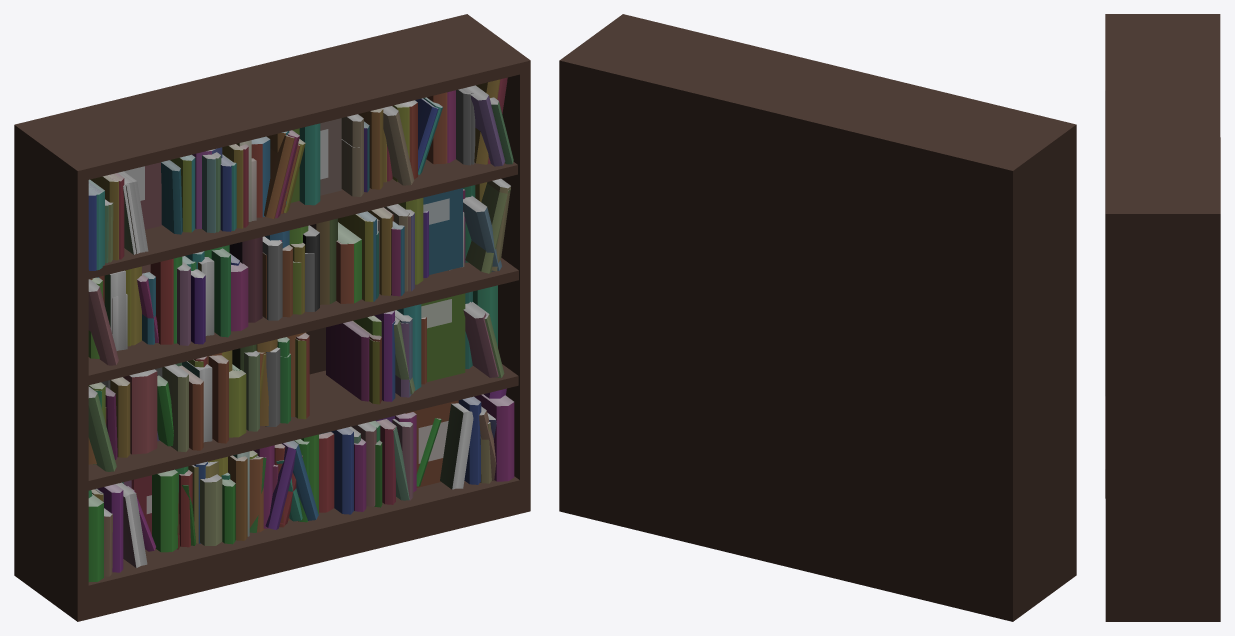
The model's file is book_case_flat_shading.glb.
The picture shows the model from 3 angles, left to right: view 1: azimuth 30°, elevation 25°; view 2: azimuth 150°, elevation 25°; view 3: azimuth 270°, elevation 25°; orthographic projection. The views are drawn at different scales.
Parts seen in each view (by area): view 1: alt35, alt37, alt38, alt36; view 2: alt35, alt37, alt38, alt36; view 3: alt38, alt35, alt37.
Part boxes in pixels (x1,y1,x2,y2): alt35: (15, 14, 530, 609); alt37: (14, 14, 530, 621); alt38: (14, 15, 530, 621); alt36: (15, 34, 530, 621); alt35: (559, 14, 1076, 608); alt37: (559, 15, 1076, 621); alt38: (559, 16, 1074, 621); alt36: (564, 14, 1040, 158); alt38: (1105, 14, 1220, 621); alt35: (1105, 14, 1220, 418); alt37: (1105, 14, 1220, 468).
Bounding box in the file's own units: 1.78 × 1.69 × 0.4335.
